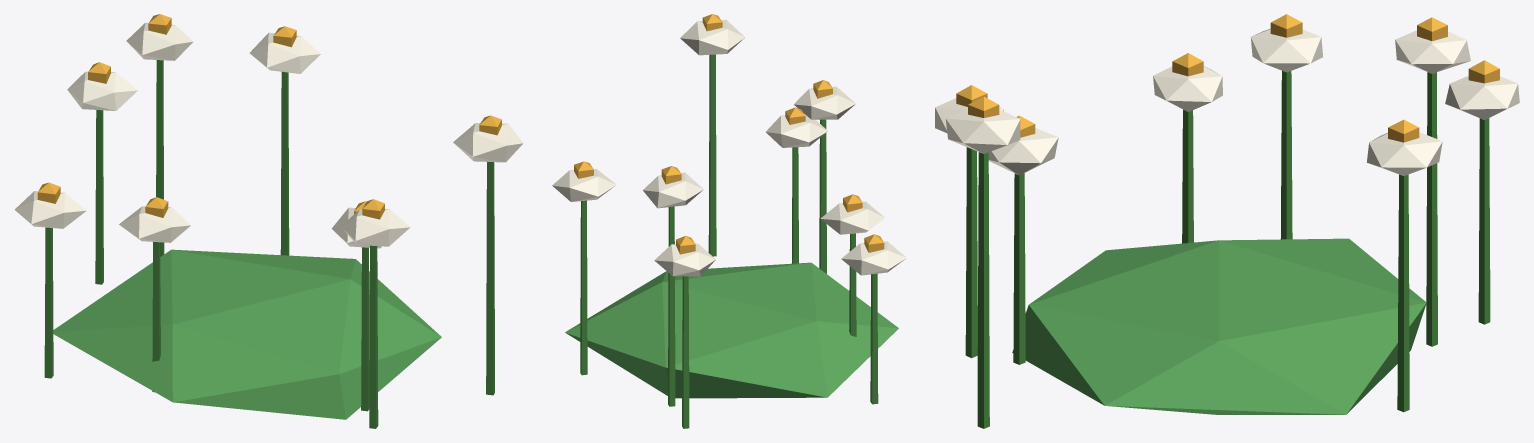
The model's file is flowers-white.glb.
3 renders of one model, left to right at view 1: azimuth 30°, elevation 25°; view 2: azimuth 150°, elevation 25°; view 3: azimuth 270°, elevation 25°, orthographic. The views are drawn at different scales.
Visible parts, largest first — view 1: flowers; view 2: flowers; view 3: flowers.
Part boxes in pixels (x1,y1,x2,y2): flowers: [14, 14, 523, 428]; flowers: [552, 14, 906, 428]; flowers: [935, 14, 1519, 428].
Size of the model in its own units: 0.8389 by 0.6377 by 0.9697.
